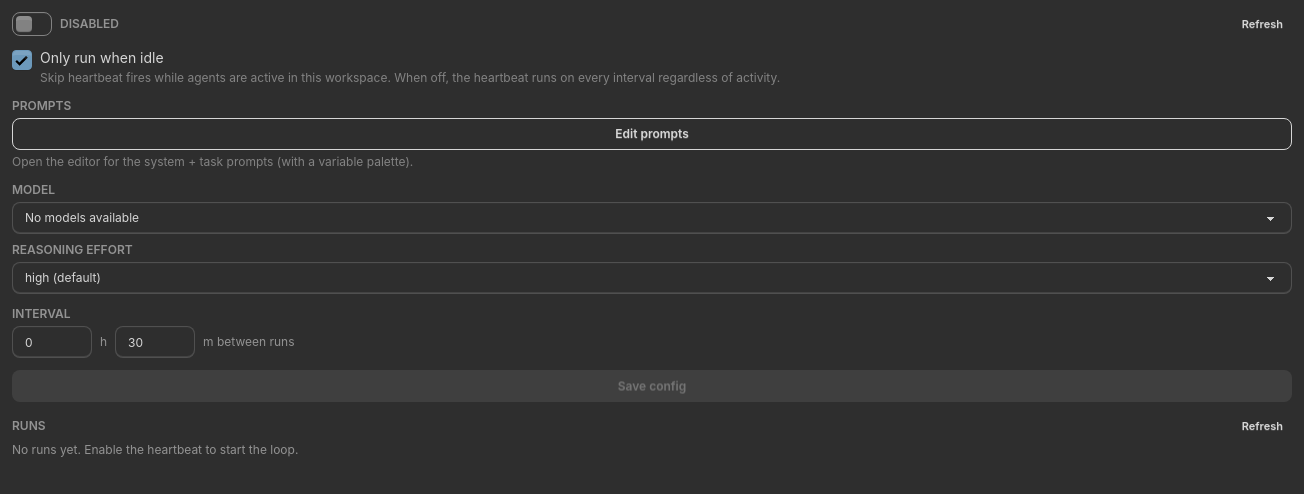
Test: HeartbeatView — inactive-only checkbox › a failed save reverts the checkbox to the last-known state
The image size is (1304, 494).
Step 1. Click the checkbox named "Only run the heartbeat when the workspace is idle" → (22, 60), box x1=12 y1=50 x2=32 y2=70
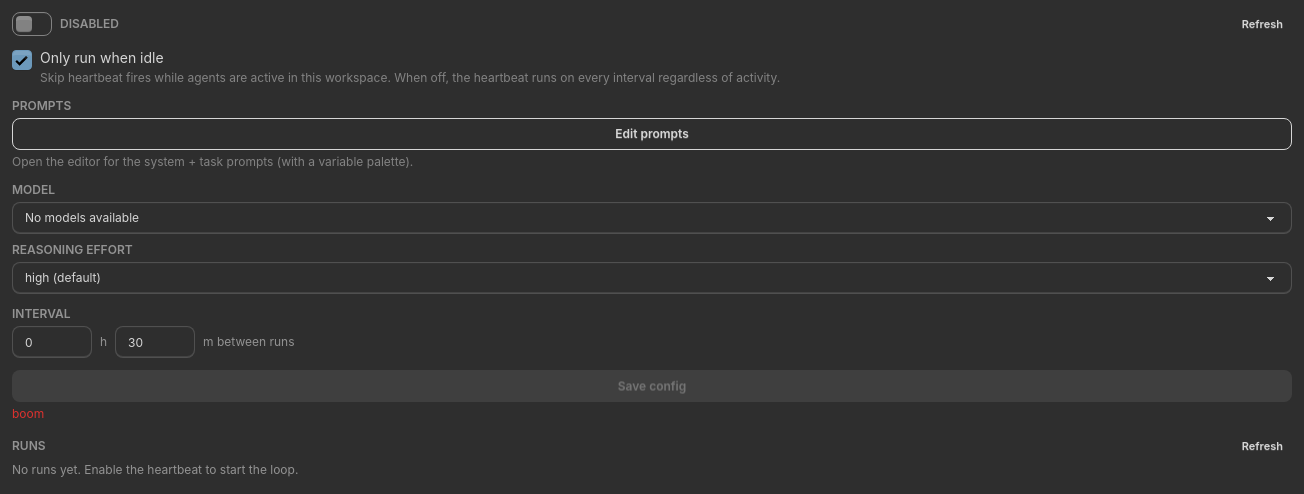
Check: the text "boom" is shown, box x1=12 y1=406 x2=44 y2=421
